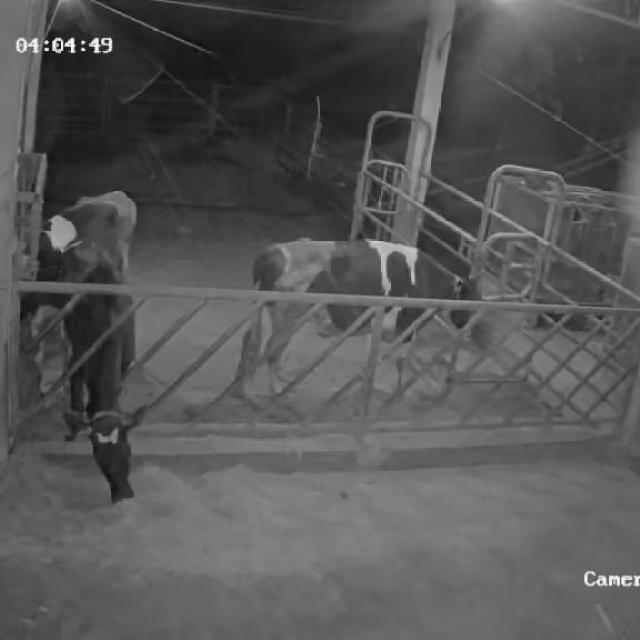feeding: (52, 242, 144, 506)
standing: (241, 236, 491, 401), (29, 184, 140, 323)
